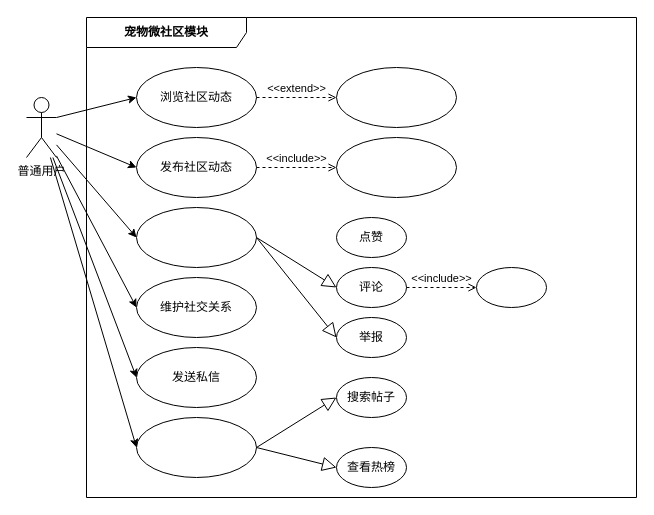
The diagram is 654 pixels wide and 515 high, and some of its shapes have lost their labels. The centre of each missing label's shape, as x and y in pixels:
"上传媒体文件" goes at point 396,167.
"互动社区内容" goes at point 196,237.
"内容发现" goes at point 196,447.
"筛选帖子" goes at point 396,97.
"纪念接力" goes at point 511,287.
